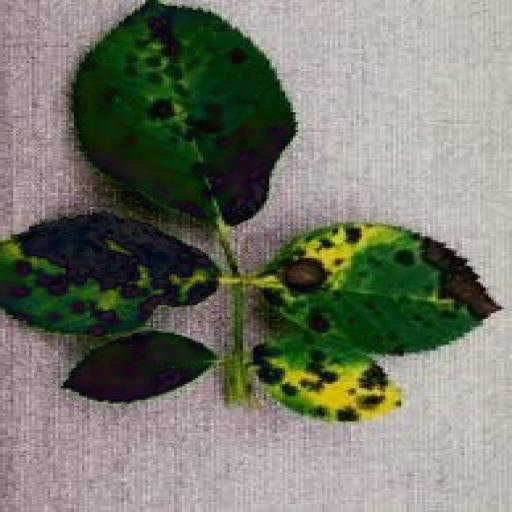downy_mildew: (74, 2, 295, 224), (264, 223, 498, 354), (0, 213, 219, 336), (254, 333, 401, 421), (64, 331, 216, 401)
